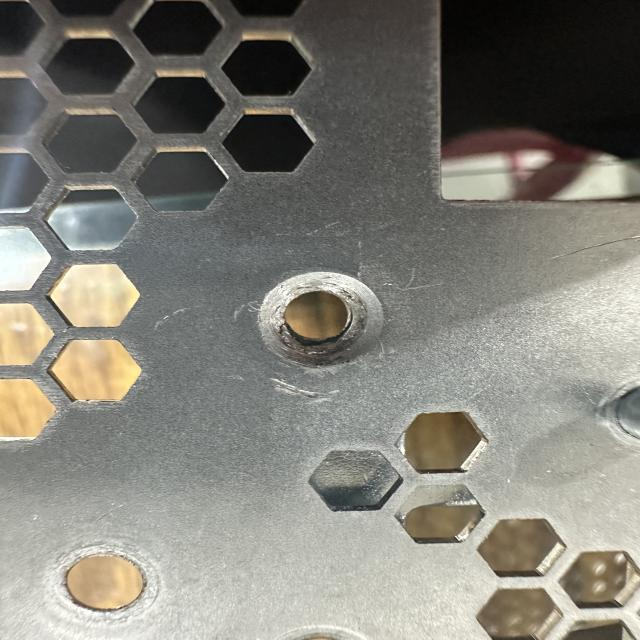Missing screw: (242, 262, 403, 372)
